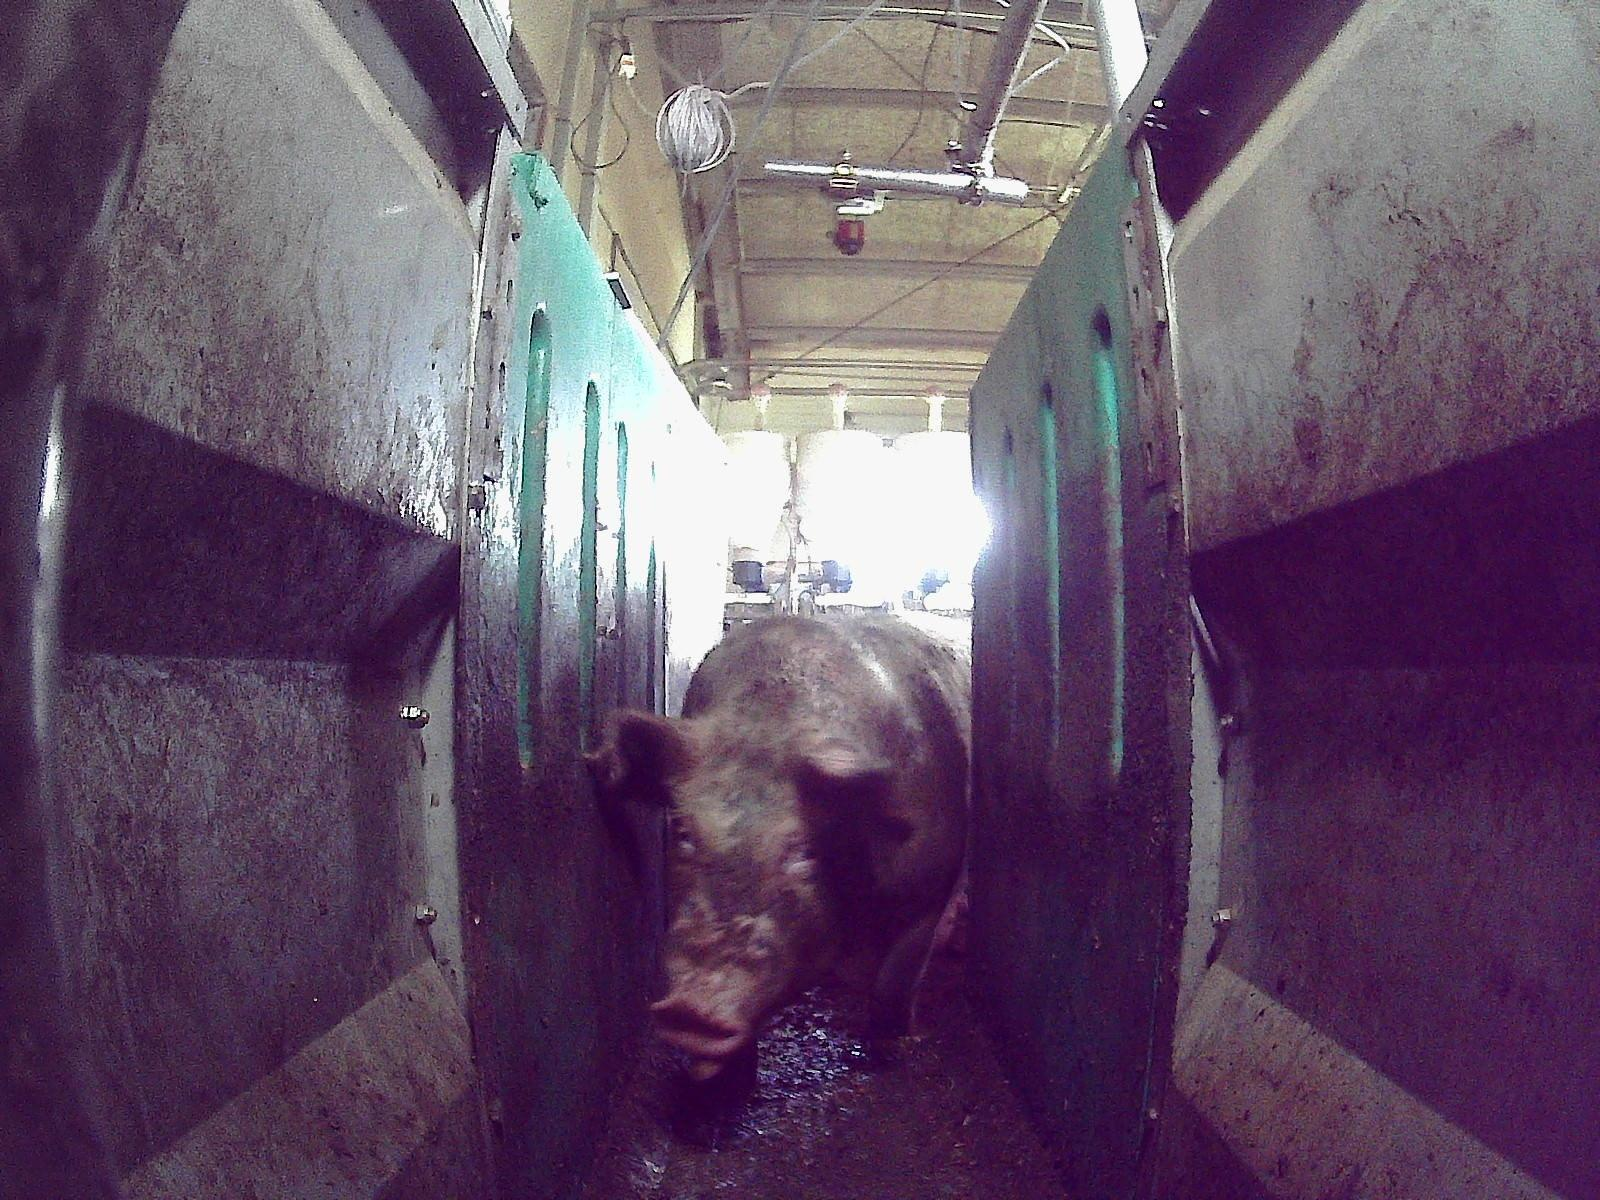Face: (636, 714, 862, 1057)
